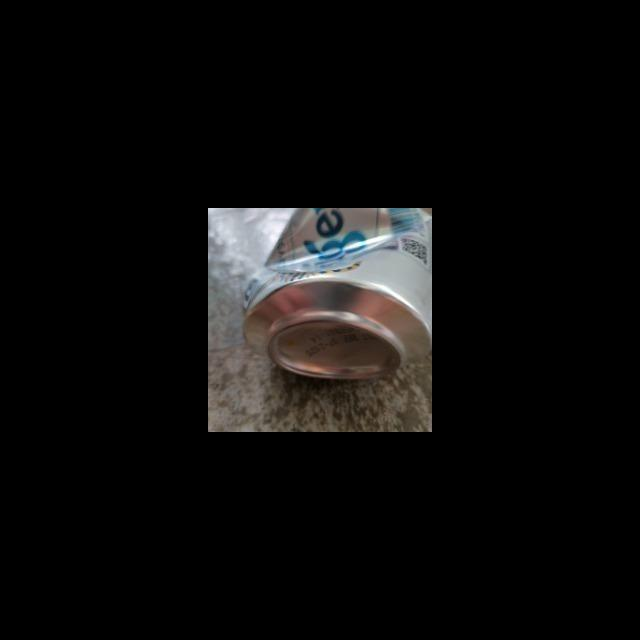metal: (225, 208, 432, 395)
